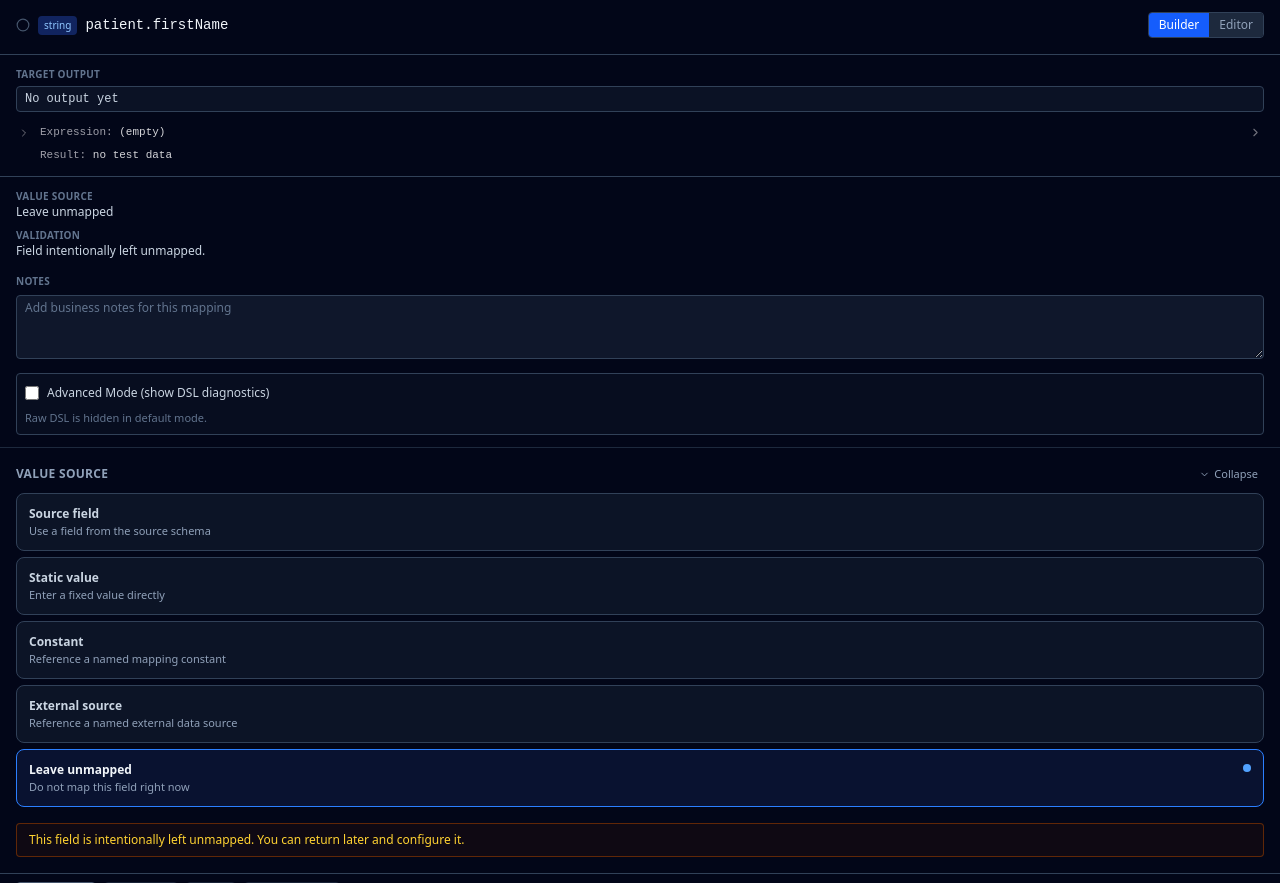
Scenario: ScalarFieldBuilder › keeps Step 2 logic lane hidden until Step 1 source is selected
Step 1. Click the button with test id "scalar-entry-mode-source" → (64, 513), box [16,492,1264,551]
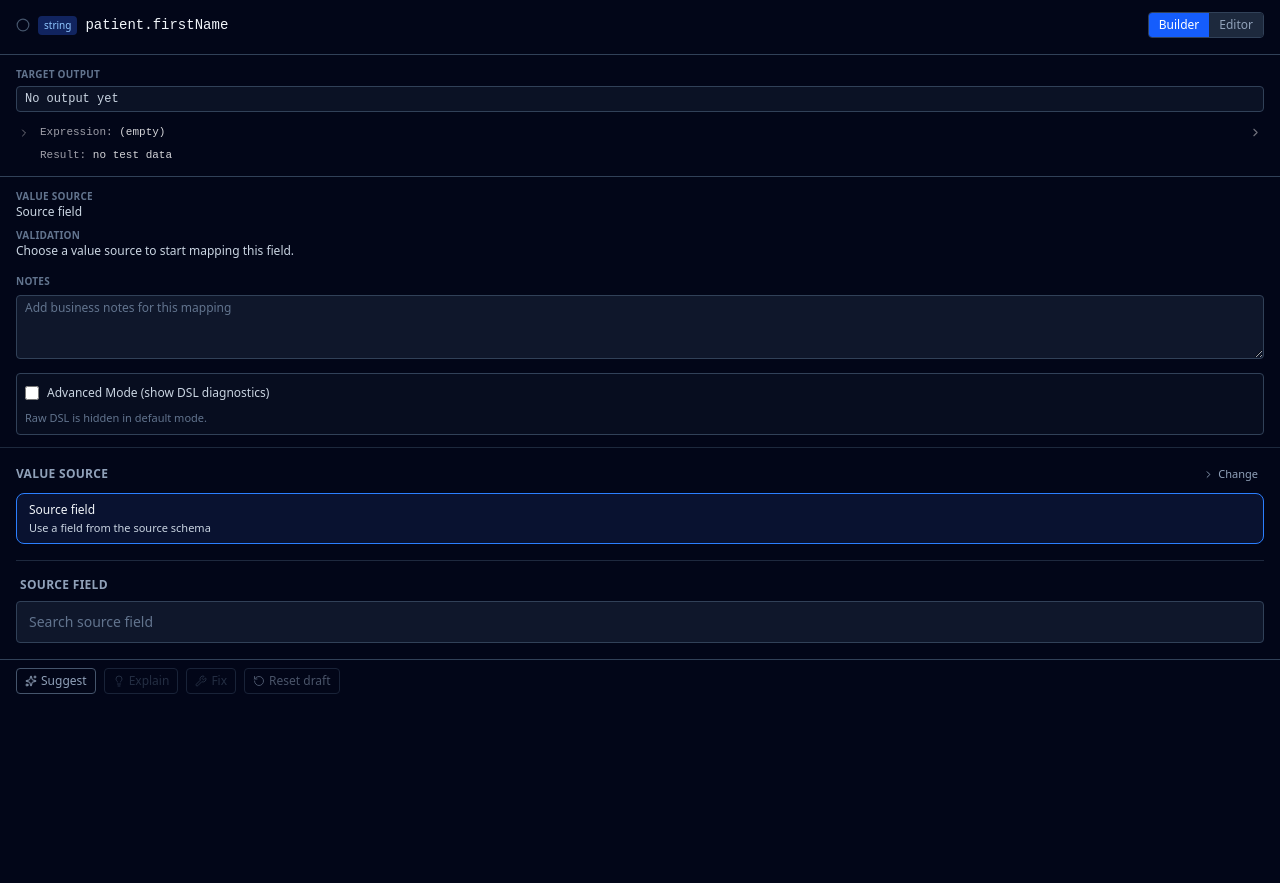
Step 2. Click the field with test id "chain-source-card-input" → (640, 622), box [16,601,1264,643]
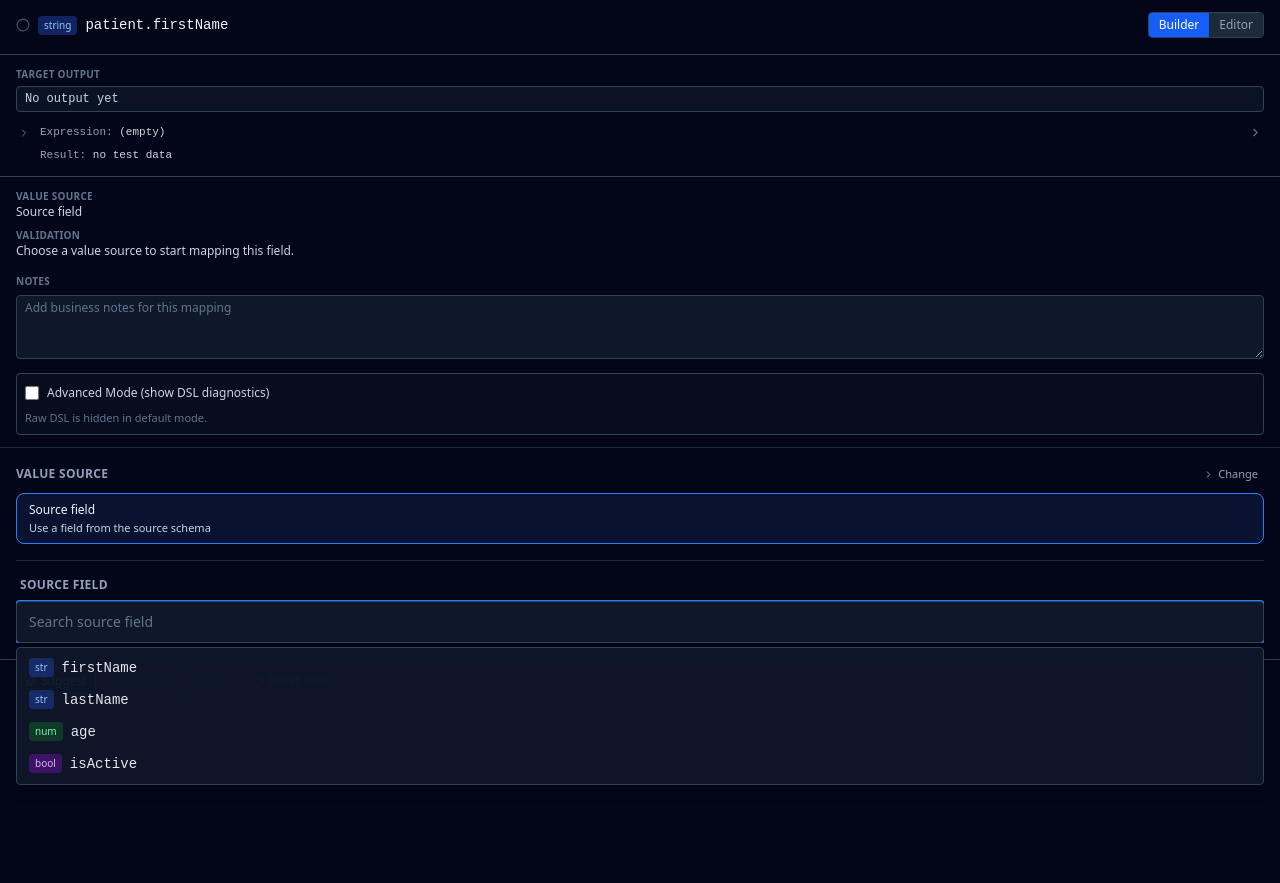
Step 3. Click the option with test id "chain-source-card-option-firstName" → (99, 668), box [21,652,1259,684]
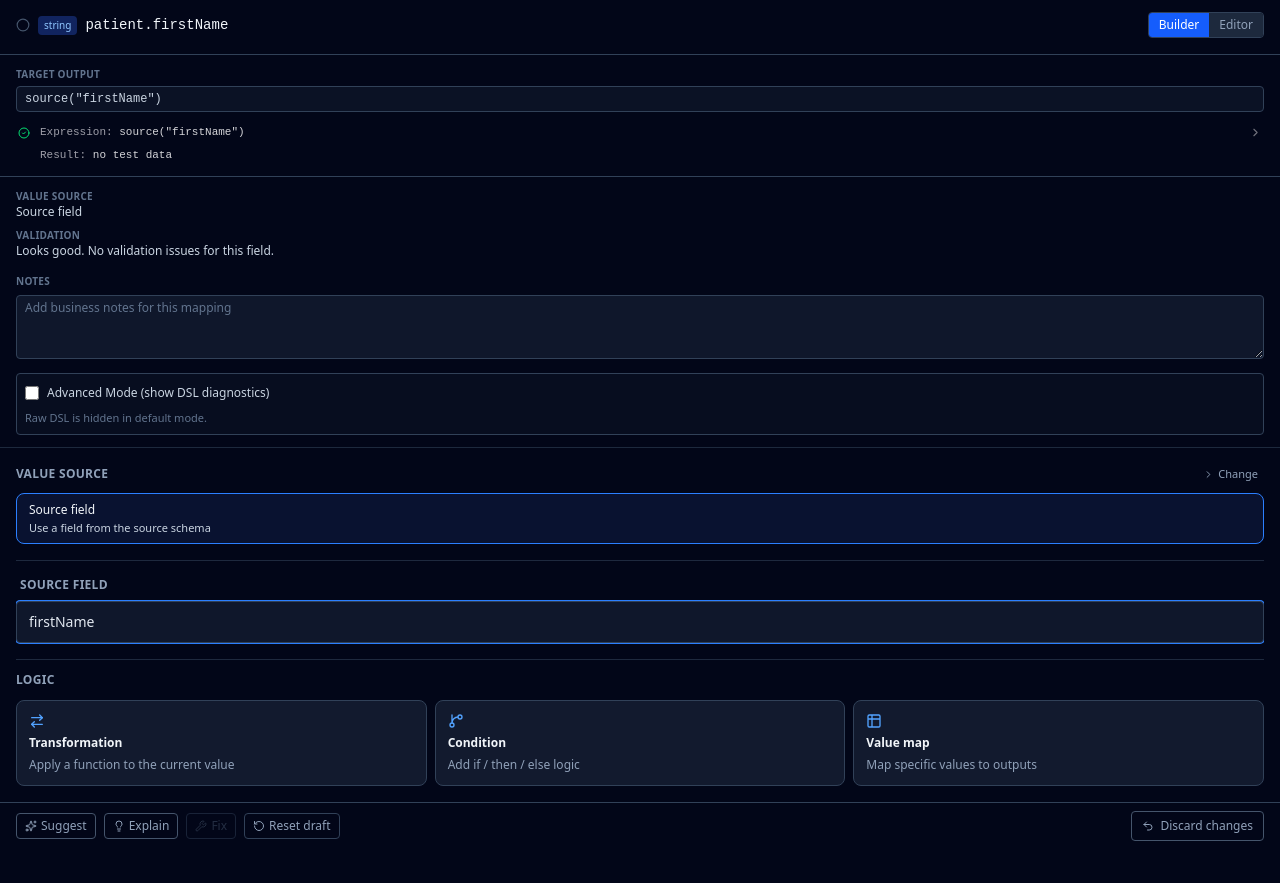
Check: the element with test id "scalar-logic-lane" is shown, box [16,659,1264,786]
Check: the text with test id "scalar-logic-heading" reads "Logic", box [16,671,55,688]
Check: the button with test id "add-logic-option-transform" is shown, box [16,700,427,786]
